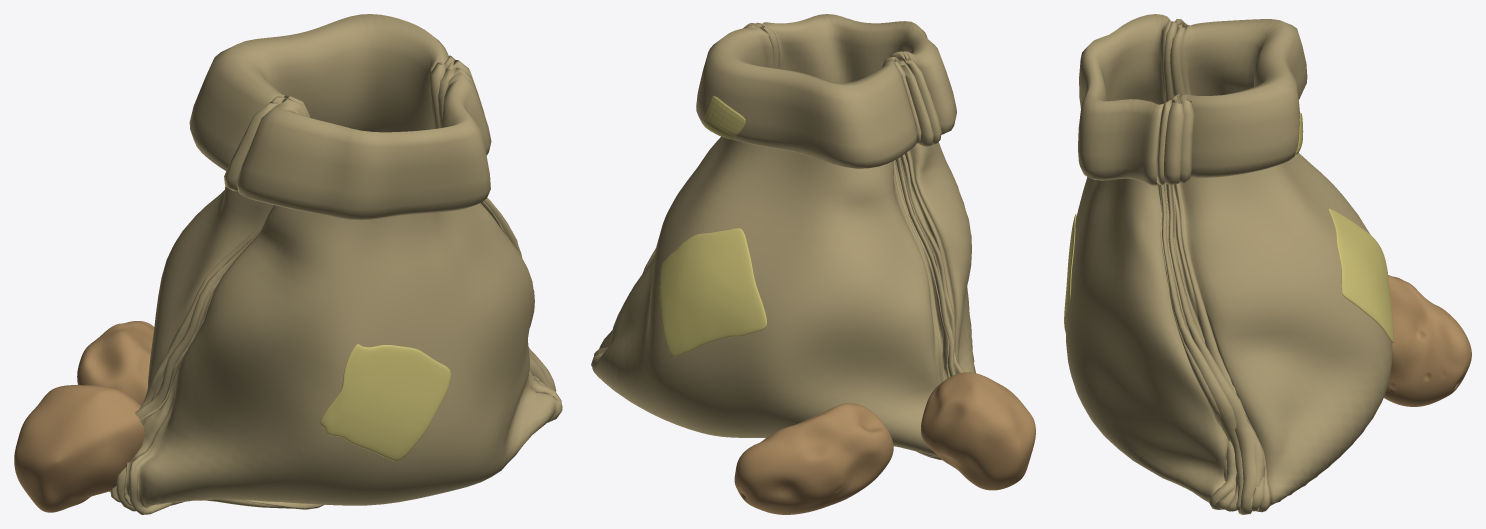
Rendered from potatoBagAEmpty.fbx.
3 renders of one model, left to right at view 1: azimuth 30°, elevation 25°; view 2: azimuth 150°, elevation 25°; view 3: azimuth 270°, elevation 25°, orthographic. The views are drawn at different scales.
Visible parts, largest first — view 1: PotatoBag, PutatoA, PatchBig.001, PotatoB; view 2: PotatoBag, PotatoB, PatchBig, PutatoA, PatchSmall; view 3: PotatoBag, PotatoB, PatchBig, PatchBig.001.
Boxes of the visible parts, <box> form: PotatoBag: <box>109,14,562,514</box>; PutatoA: <box>14,385,144,512</box>; PatchBig.001: <box>320,344,450,460</box>; PotatoB: <box>77,321,154,405</box>; PotatoBag: <box>591,14,975,460</box>; PotatoB: <box>734,403,893,514</box>; PatchBig: <box>659,228,766,357</box>; PutatoA: <box>921,372,1035,490</box>; PatchSmall: <box>703,96,745,139</box>; PotatoBag: <box>1065,14,1392,514</box>; PotatoB: <box>1384,275,1471,406</box>; PatchBig: <box>1328,208,1393,342</box>; PatchBig.001: <box>1064,214,1076,331</box>.
Bounding box in the file's own units: 223 × 183 × 173.
